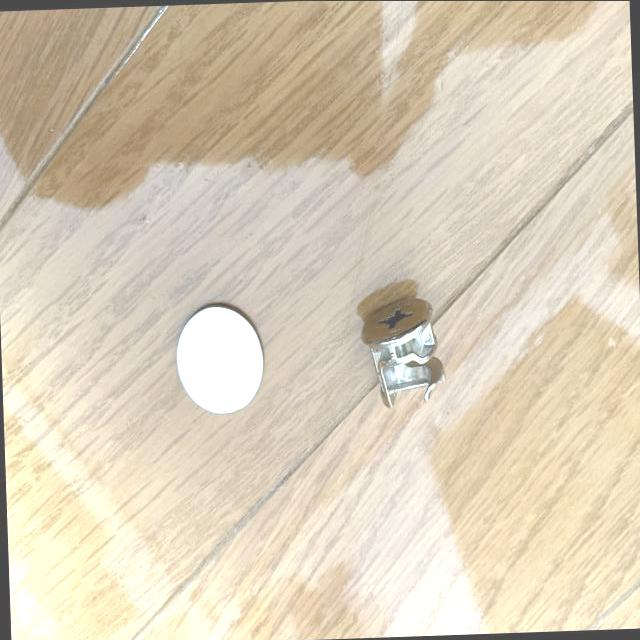COIN: (174, 307, 264, 416)
